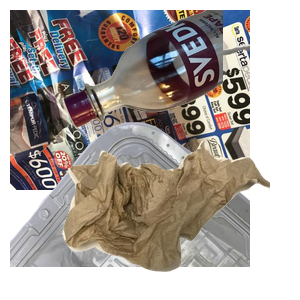glass: (60, 10, 300, 130)
paper: (10, 10, 250, 190)
plastic: (10, 120, 250, 300)
trash: (60, 138, 300, 300)
